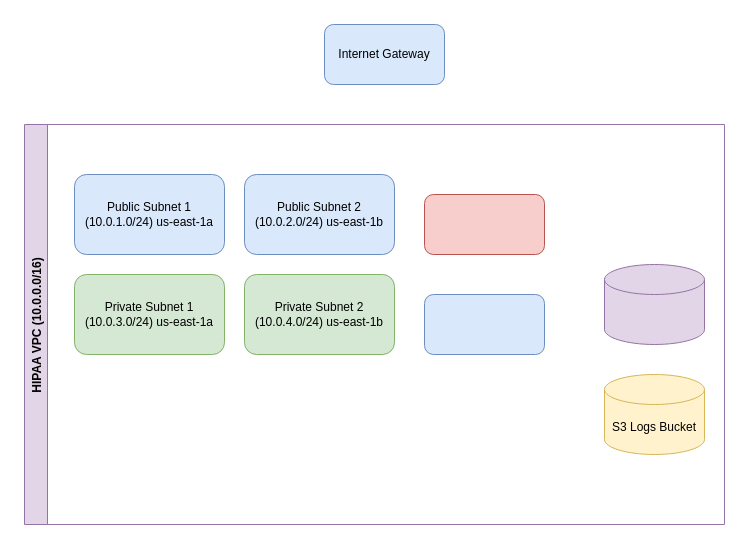
This 742x542 diagram has some shape labels left out. The centre of each missing label's shape, as x and y in pixels:
"Application Load Balancer" goes at (484,224).
"ECS Cluster" goes at (484,324).
"RDS PostgreSQL (Multi-AZ)" goes at (654,304).
